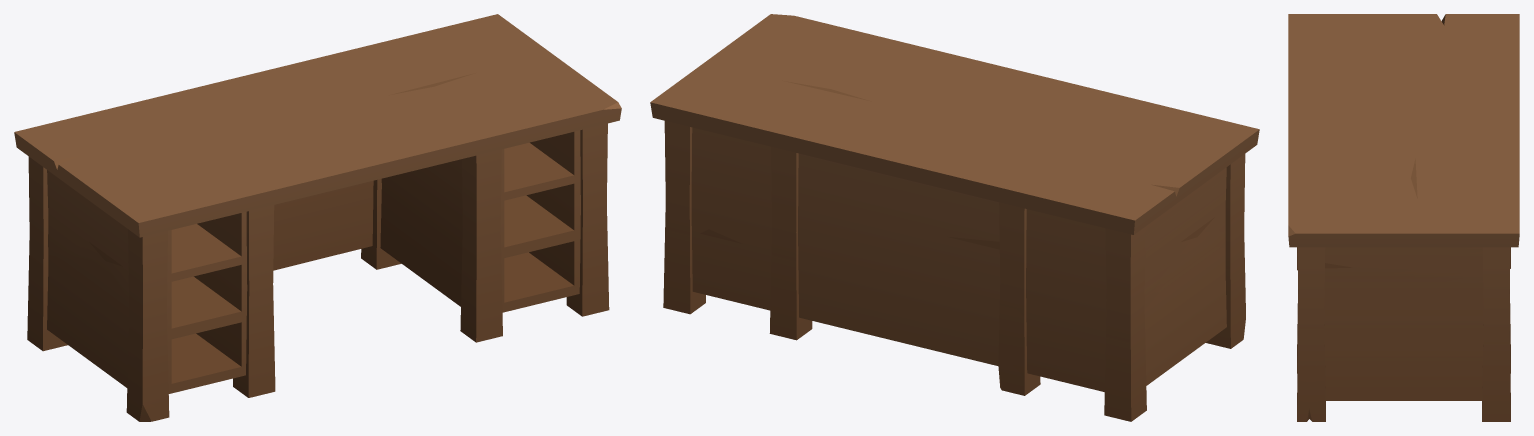
The model's file is Desk.fbx.
The picture shows the model from 3 angles, left to right: view 1: azimuth 30°, elevation 25°; view 2: azimuth 150°, elevation 25°; view 3: azimuth 270°, elevation 25°; orthographic projection. The views are drawn at different scales.
Visible parts, largest first — view 1: Desk; view 2: Desk; view 3: Desk.
Boxes of the visible parts, x1,y1,x2,y2 form: Desk: [14, 14, 621, 421]; Desk: [650, 14, 1259, 421]; Desk: [1288, 14, 1519, 421].
Size of the model in its own units: 181 by 73.97 by 80.83.
